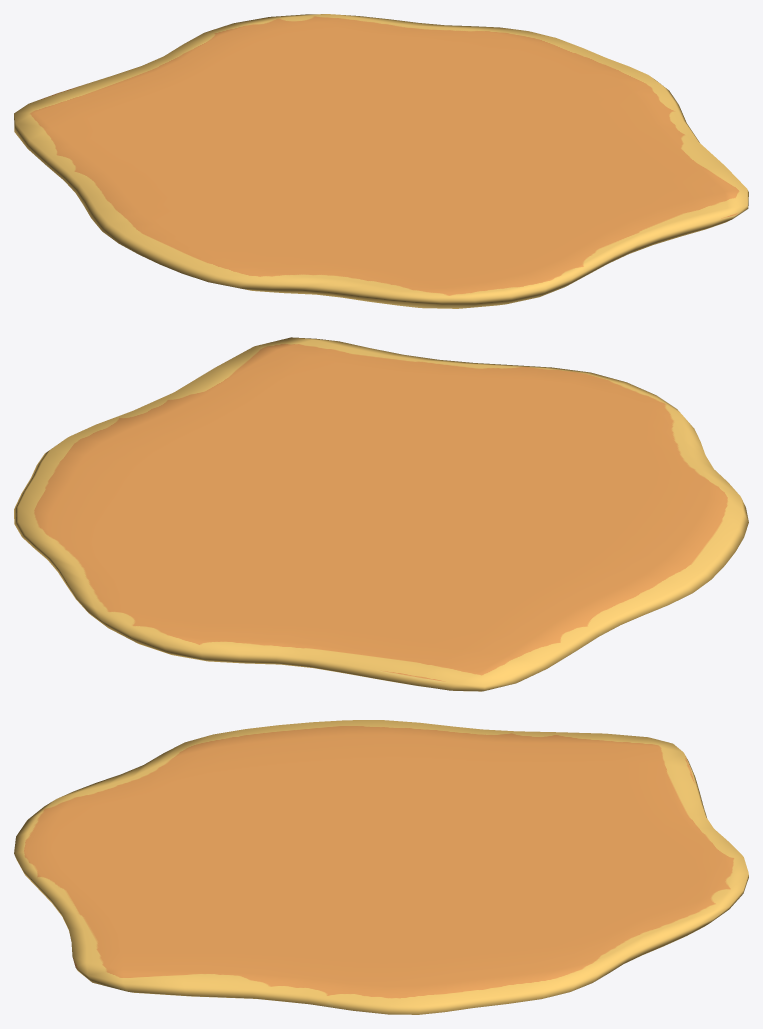
The model's file is chickenofthewoods_v02.fbx.
3 views of the same model, one above another, from view 1: azimuth 30°, elevation 25°; view 2: azimuth 150°, elevation 25°; view 3: azimuth 270°, elevation 25° (orthographic). The views are drawn at different scales.
Parts seen in each view (by area): view 1: chicken of the woods; view 2: chicken of the woods; view 3: chicken of the woods.
Part boxes in pixels (x1=…): chicken of the woods: x1=14, y1=14, x2=748, y2=308; chicken of the woods: x1=14, y1=337, x2=748, y2=691; chicken of the woods: x1=14, y1=720, x2=748, y2=1014.
Size of the model in its own units: 1654 by 119 by 1758.
